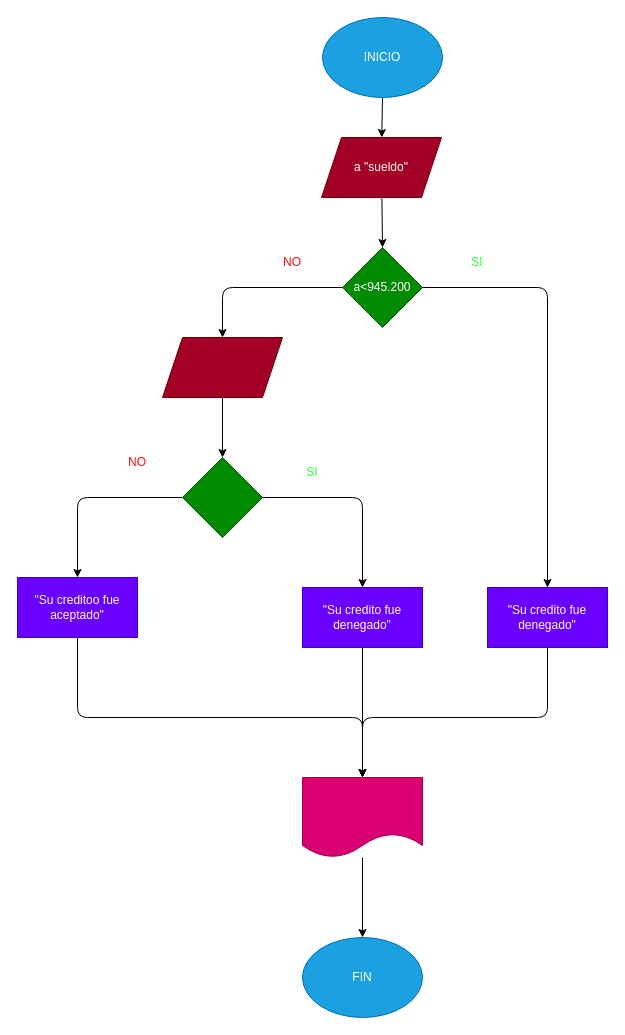
Image size: 625x1035. Some labels were removed from this diagram. Each missing label, with the centre of its shape:
b "Deuda": pixel 222 367
b == 1: pixel 222 497
Rta: pixel 362 817
